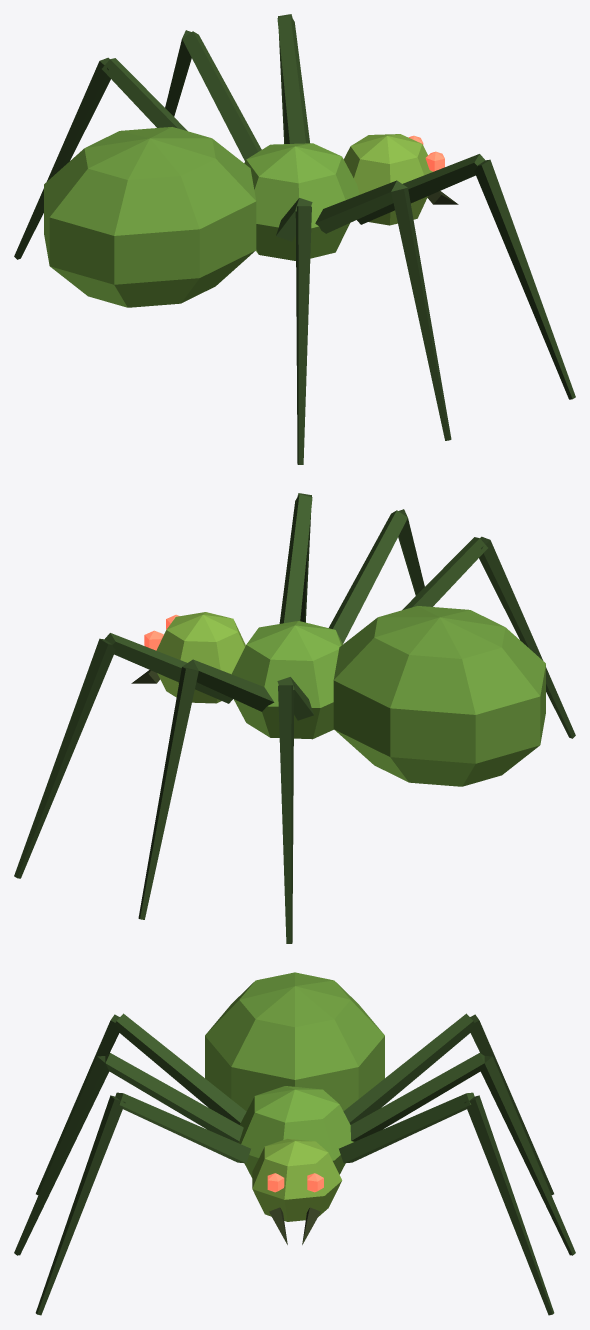
File: broodling.glb
The picture shows the model from 3 angles, top to bottom: view 1: azimuth 30°, elevation 25°; view 2: azimuth 150°, elevation 25°; view 3: azimuth 270°, elevation 25°; orthographic projection. The views are drawn at different scales.
Parts seen in each view (by area): view 1: body, sleg_r1, sleg_r2, head, sleg_l3, sleg_r3, sleg_l2, sleg_l1; view 2: body, sleg_l1, sleg_l2, head, sleg_r3, sleg_l3, sleg_r2, sleg_r1; view 3: body, head, sleg_r2, sleg_l2, sleg_l1, sleg_r1, sleg_r3, sleg_l3.
Part boxes in pixels (bbox=[...]): body: bbox=[44, 127, 359, 307]; sleg_r1: bbox=[357, 154, 575, 399]; sleg_r2: bbox=[315, 180, 451, 440]; head: bbox=[344, 134, 458, 225]; sleg_l3: bbox=[14, 57, 187, 259]; sleg_r3: bbox=[276, 198, 312, 464]; sleg_l2: bbox=[165, 30, 261, 161]; sleg_l1: bbox=[277, 14, 309, 143]; body: bbox=[232, 606, 545, 786]; sleg_l1: bbox=[14, 633, 232, 878]; sleg_l2: bbox=[138, 659, 274, 919]; head: bbox=[131, 612, 245, 703]; sleg_r3: bbox=[402, 536, 575, 738]; sleg_l3: bbox=[277, 677, 313, 943]; sleg_r2: bbox=[329, 509, 424, 643]; sleg_r1: bbox=[279, 493, 312, 623]; body: bbox=[205, 972, 384, 1177]; head: bbox=[252, 1138, 342, 1244]; sleg_r2: bbox=[14, 1053, 243, 1255]; sleg_l2: bbox=[350, 1053, 575, 1255]; sleg_l1: bbox=[339, 1092, 554, 1315]; sleg_r1: bbox=[35, 1092, 250, 1315]; sleg_r3: bbox=[36, 1013, 246, 1195]; sleg_l3: bbox=[343, 1013, 553, 1195].
Bounding box in the file's own units: 0.5371 × 0.2866 × 0.7118.
